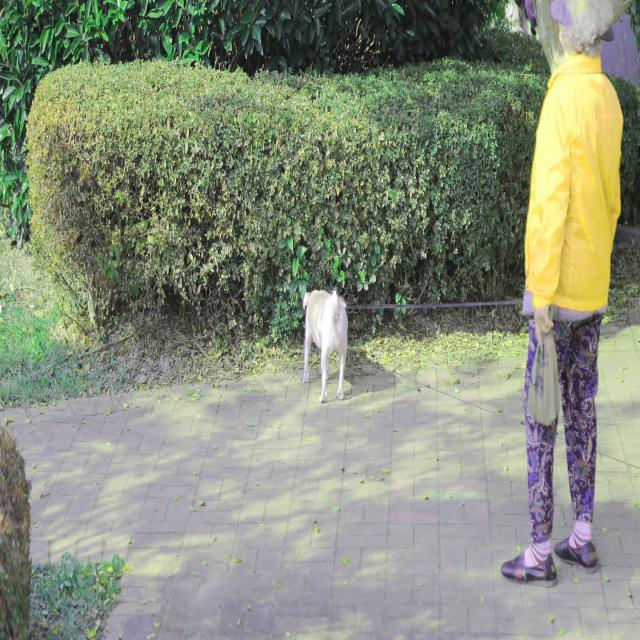Leashed_Dog: (302, 242, 566, 404)
